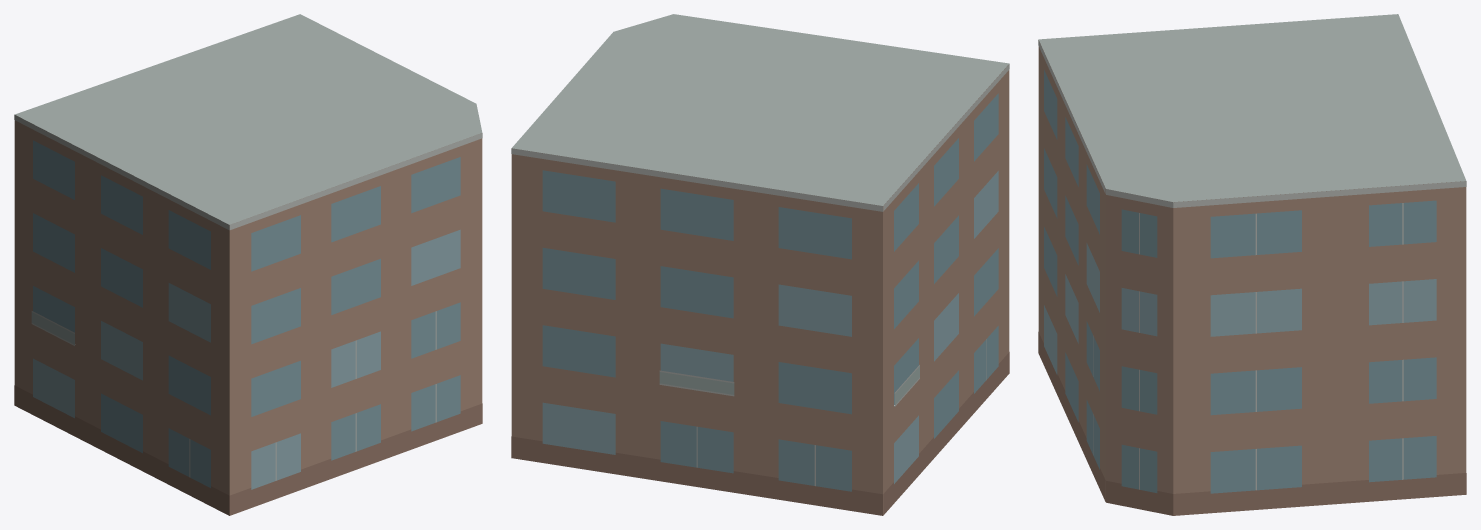
The model's file is survey-upis-32990576.glb.
3 views of the same model, side by side, from view 1: azimuth 30°, elevation 25°; view 2: azimuth 150°, elevation 25°; view 3: azimuth 270°, elevation 25° (orthographic). The views are drawn at different scales.
Parts seen in each view (by area): view 1: survey-upis-32990576.tmp; view 2: survey-upis-32990576.tmp; view 3: survey-upis-32990576.tmp.
Part boxes in pixels (bbox=[...]): survey-upis-32990576.tmp: bbox=[14, 14, 482, 515]; survey-upis-32990576.tmp: bbox=[511, 14, 1009, 515]; survey-upis-32990576.tmp: bbox=[1038, 14, 1466, 515].
Bounding box in the file's own units: 16.6 × 12.9 × 15.96.
